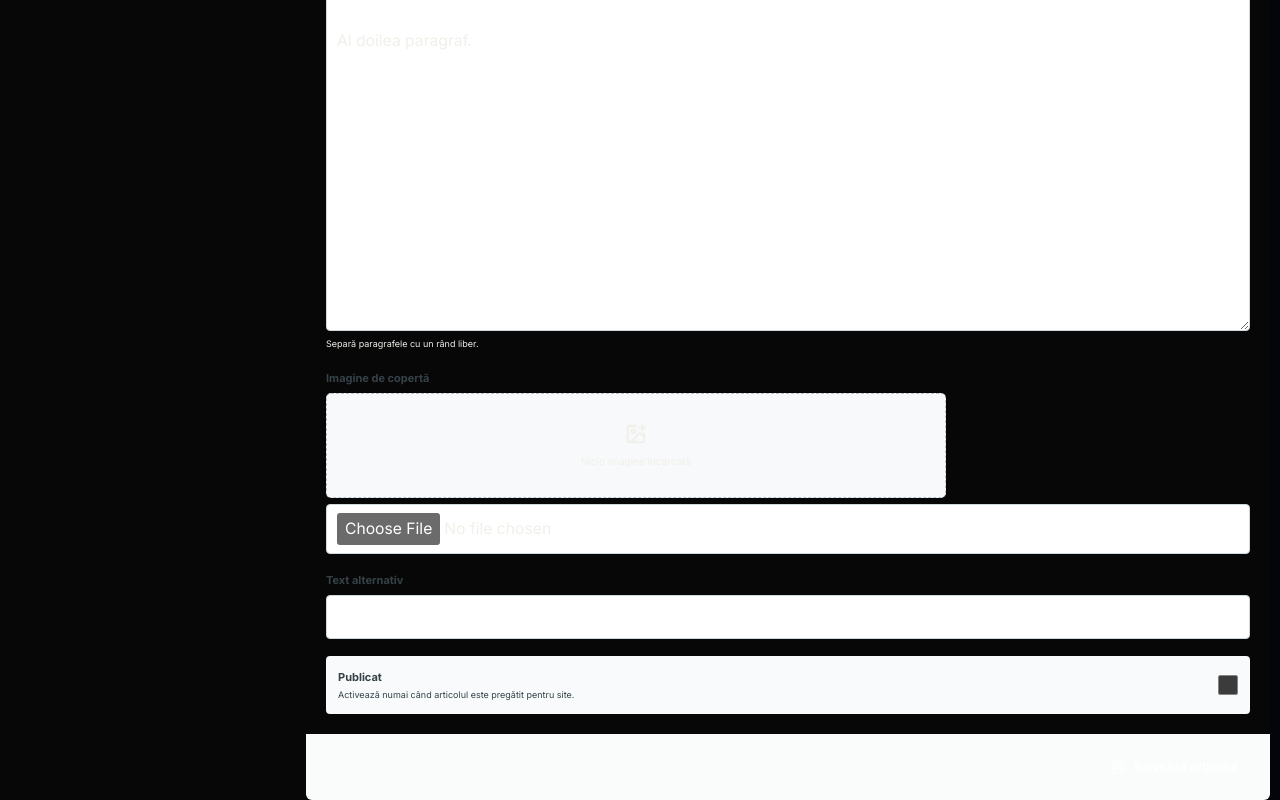
Test case: saving changes status from draft to published only after the server confirms
Later steps or results of the test are not shown.
(page scrolled)
Click the checkbox at [1228, 685], box [1218,675,1238,695]
(page scrolled)
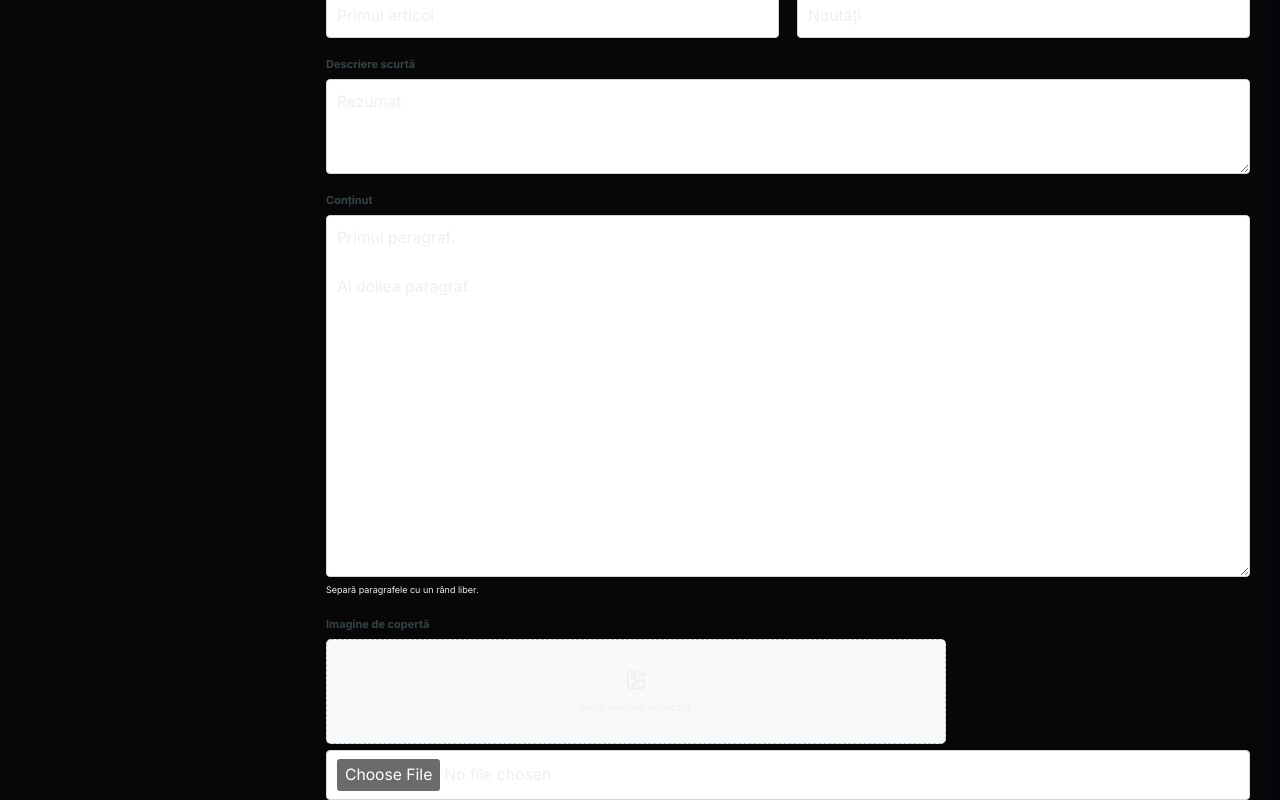
Submit the form
(page scrolled)
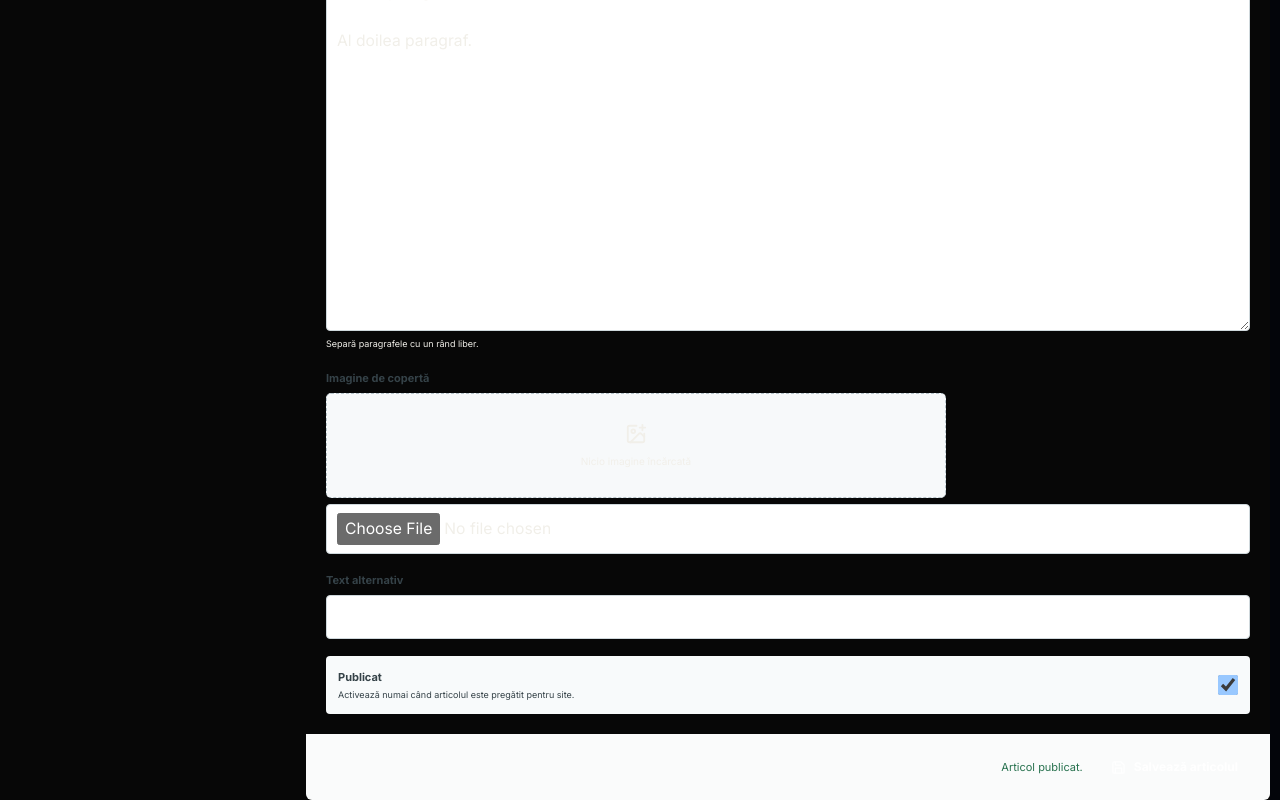
Expected: the checkbox is checked, [1218,675,1238,695]
Expected: the text "Articol publicat." is shown, [1001,758,1083,776]
